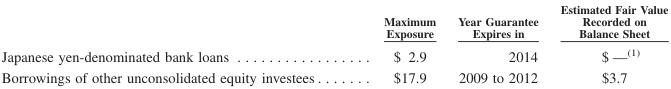table: (0, 0, 667, 85)
table column: (0, 0, 351, 85), (446, 0, 548, 85), (351, 0, 446, 85), (548, 0, 632, 85), (632, 0, 667, 85)
table column header: (0, 0, 667, 65)
table row: (0, 0, 667, 42), (0, 42, 667, 65), (0, 65, 667, 85)
table spanning cell: (0, 0, 351, 65), (446, 0, 548, 65), (351, 0, 446, 65), (548, 0, 667, 42)
